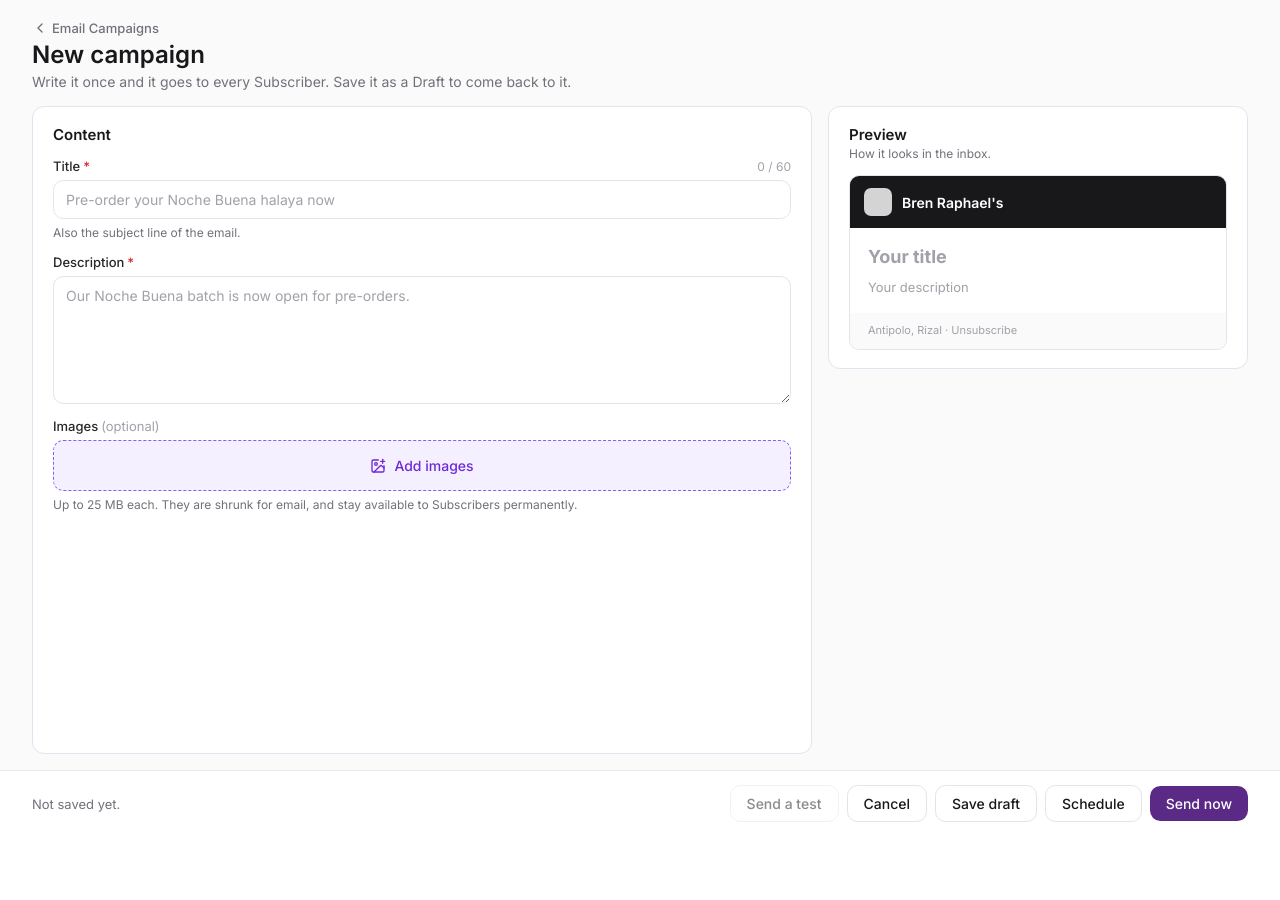
Test: the campaign form › previews the title and description live
Step 1. Type "Pre-order halaya" into the field labelled "Title *" → (422, 200), box [53,180,791,219]
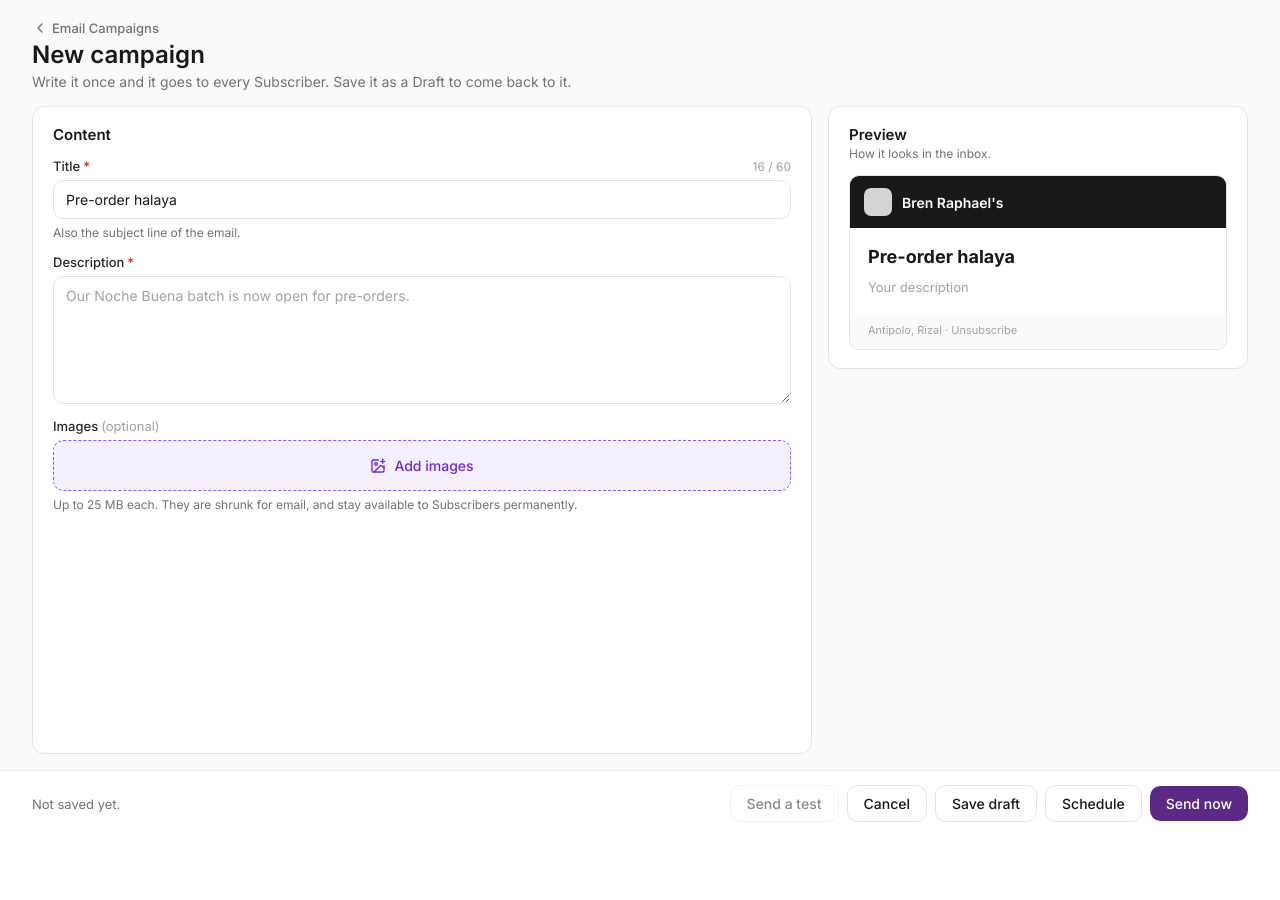
Step 2. Type "Reserve by 15 December." into the text box labelled "Description *" → (422, 340), box [53,276,791,404]
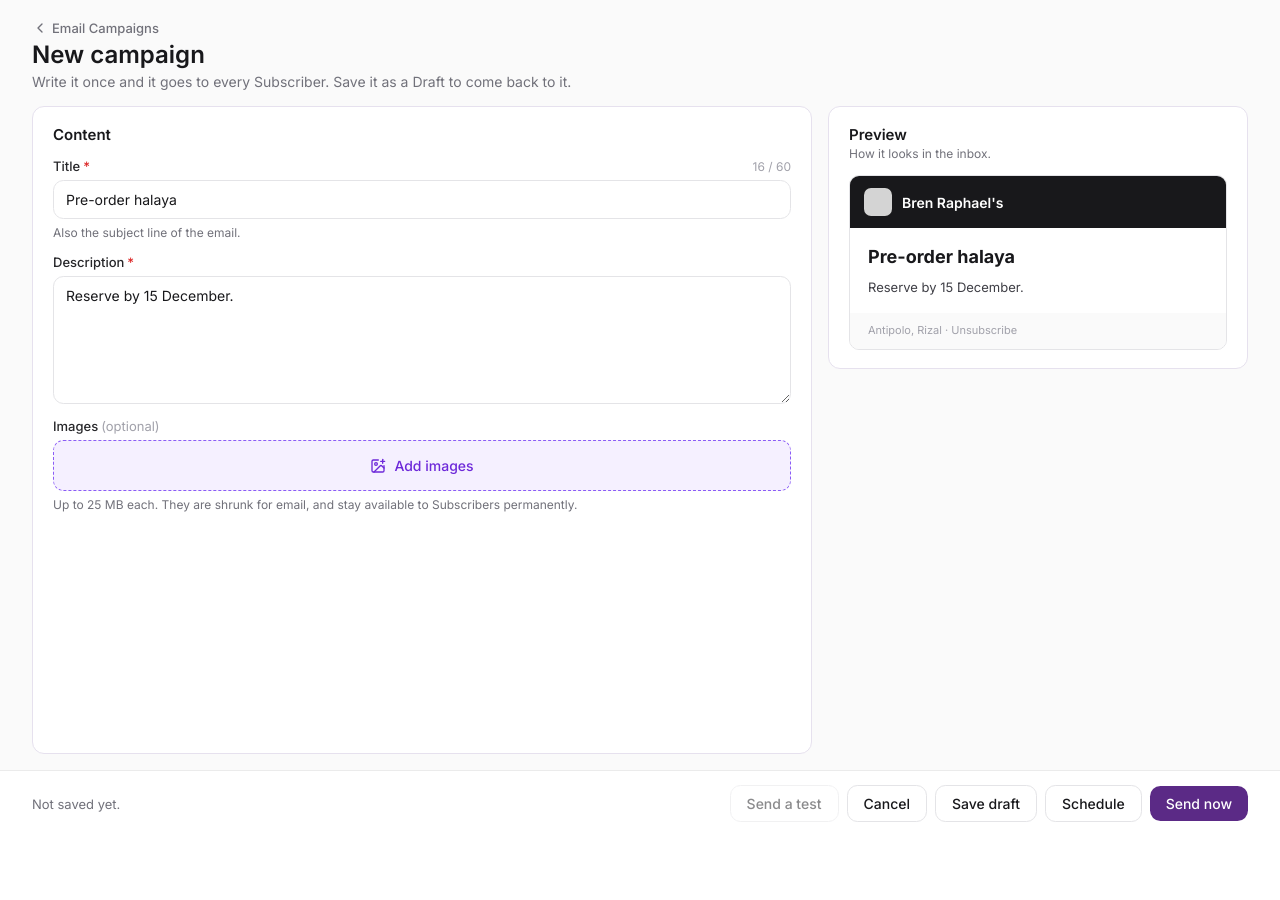
Expected: the element with test id "inbox-preview" shows "Unsubscribe", [868,323,1017,337]
Expected: the element with test id "inbox-preview" shows "Pre-order halaya", [868,246,1015,267]
Expected: the element with test id "inbox-preview" shows "Reserve by 15 December.", [868,279,1024,295]
